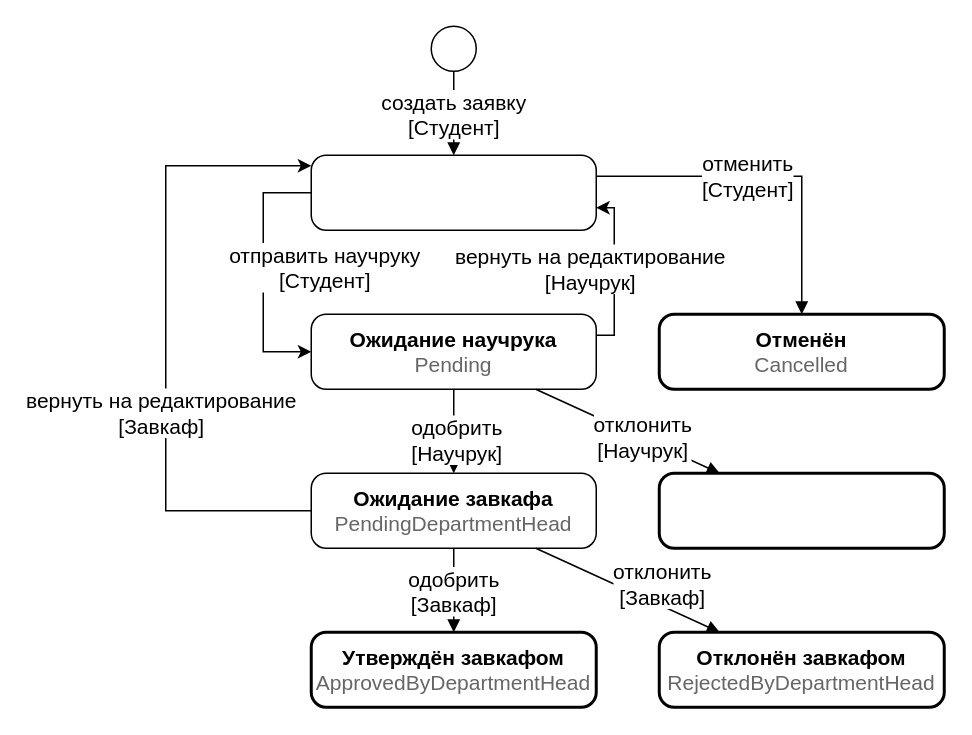
Image size: 972x735. Some labels were removed from this diagram. Here are the shapes that lost their labels. From the top down, the centre of each, then its label:
point 453,192: Редактирование OnEditing
point 801,510: Отклонён научруком RejectedBySupervisor
